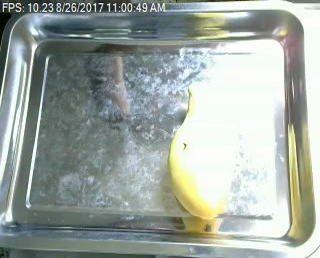Mango: (161, 81, 249, 221)
